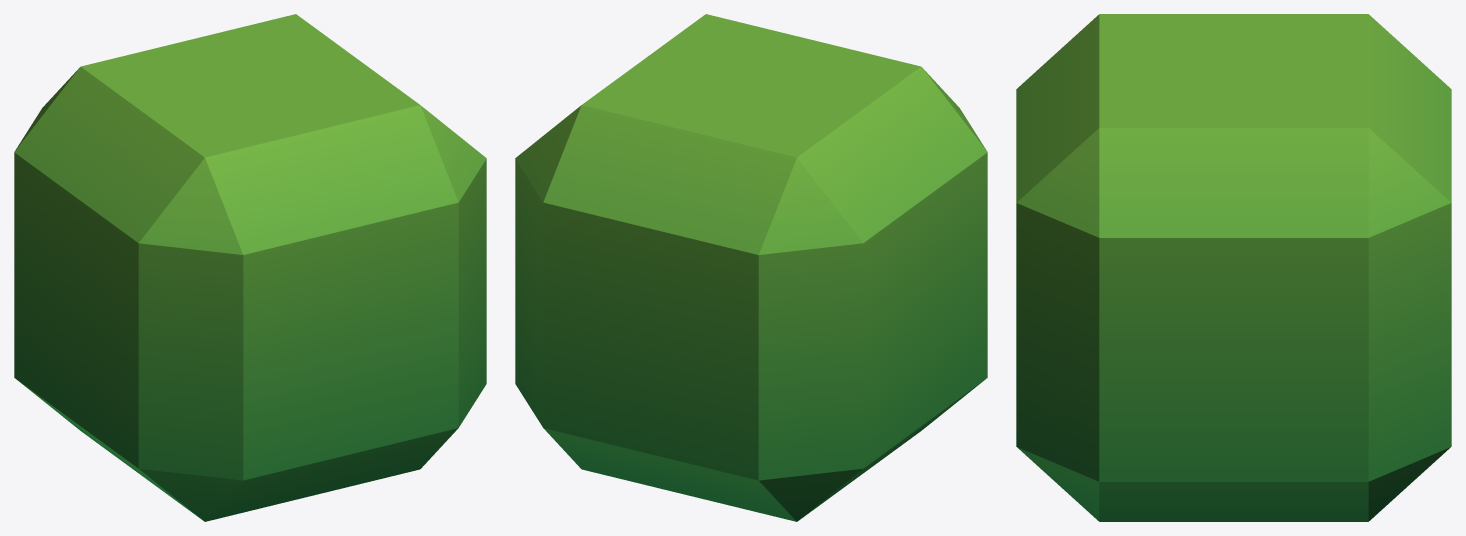
File: kf_bush_2_a.fbx
3 renders of one model, left to right at view 1: azimuth 30°, elevation 25°; view 2: azimuth 150°, elevation 25°; view 3: azimuth 270°, elevation 25°, orthographic. The views are drawn at different scales.
Visible parts, largest first — view 1: kf_bush_2_a; view 2: kf_bush_2_a; view 3: kf_bush_2_a.
Part boxes in pixels (bbox=[...]): kf_bush_2_a: bbox=[14, 14, 486, 521]; kf_bush_2_a: bbox=[515, 14, 987, 521]; kf_bush_2_a: bbox=[1016, 14, 1451, 521].
Size of the model in its own units: 0.8448 by 0.8448 by 0.8448.
Materials: 1 (1 with a texture image).
